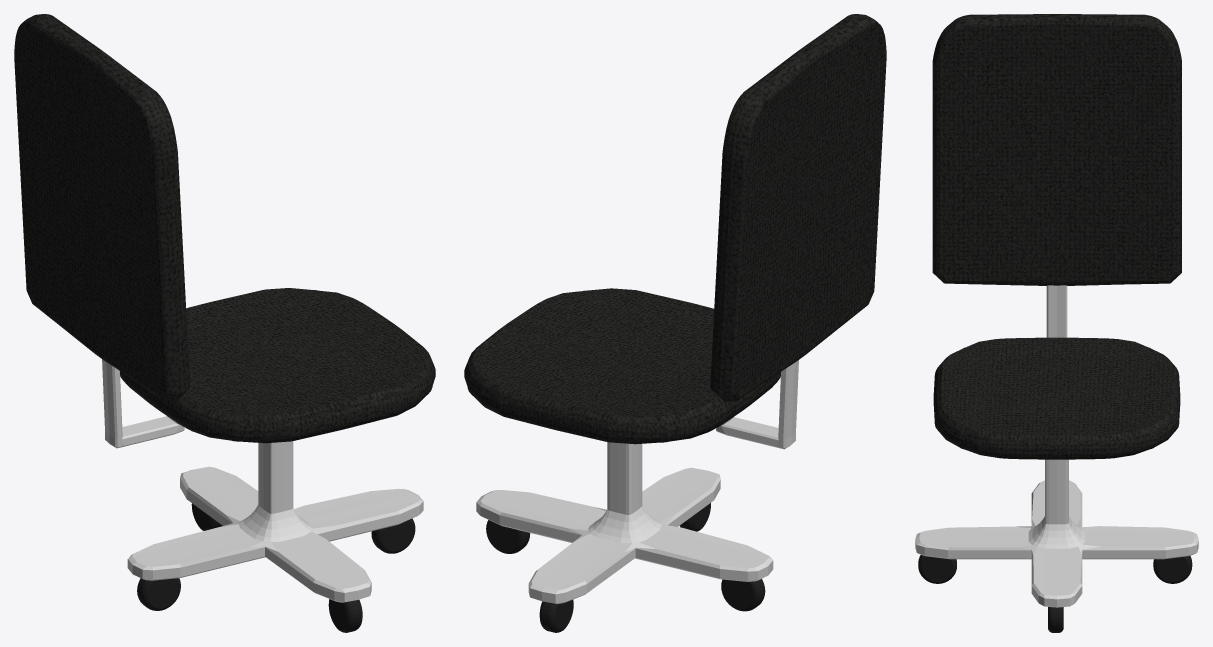
Rendered from chair.glb.
3 views of the same model, side by side, from view 1: azimuth 30°, elevation 25°; view 2: azimuth 150°, elevation 25°; view 3: azimuth 270°, elevation 25° (orthographic). The views are drawn at different scales.
Parts seen in each view (by area): view 1: Chair_Back, Chair_Pillow, Chair_Metal, Chair_Wheel_4, Chair_Wheel_3, Chair_Wheel_1; view 2: Chair_Back, Chair_Pillow, Chair_Metal, Chair_Wheel_4, Chair_Wheel_3, Chair_Wheel_2; view 3: Chair_Back, Chair_Pillow, Chair_Metal, Chair_Wheel_1, Chair_Wheel_2, Chair_Wheel_3.
Part boxes in pixels (x1=…): Chair_Back: x1=14, y1=14, x2=190, y2=401; Chair_Pillow: x1=120, y1=288, x2=435, y2=443; Chair_Metal: x1=102, y1=359, x2=423, y2=602; Chair_Wheel_4: x1=137, y1=578, x2=180, y2=610; Chair_Wheel_3: x1=371, y1=518, x2=415, y2=553; Chair_Wheel_1: x1=328, y1=599, x2=362, y2=632; Chair_Back: x1=710, y1=14, x2=886, y2=402; Chair_Pillow: x1=464, y1=288, x2=780, y2=444; Chair_Metal: x1=476, y1=360, x2=798, y2=603; Chair_Wheel_4: x1=721, y1=579, x2=765, y2=611; Chair_Wheel_3: x1=486, y1=520, x2=530, y2=553; Chair_Wheel_2: x1=539, y1=599, x2=573, y2=632; Chair_Back: x1=932, y1=14, x2=1181, y2=285; Chair_Pillow: x1=933, y1=337, x2=1180, y2=459; Chair_Metal: x1=915, y1=285, x2=1198, y2=607; Chair_Wheel_1: x1=918, y1=555, x2=956, y2=583; Chair_Wheel_2: x1=1153, y1=556, x2=1192, y2=583; Chair_Wheel_3: x1=1048, y1=607, x2=1063, y2=632.
Bounding box in the file's own units: 0.4094 × 0.6638 × 0.3471.
Materials: 3 (1 with a texture image).
